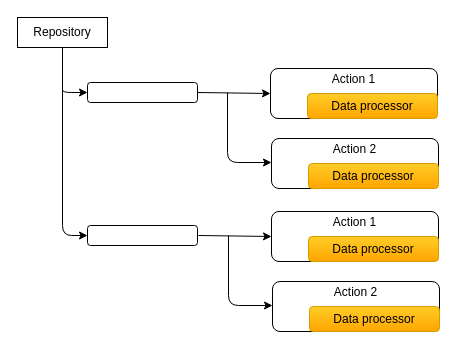
The diagram is 457 pixels wide and 351 high, and some of its shapes have lost their labels. The shapes that lost their labels are listed below. From the top down, each one's centre as x and y in pixels, then its label:
At [142,92]: "Task 1".
At [142,235]: "Task 2".
